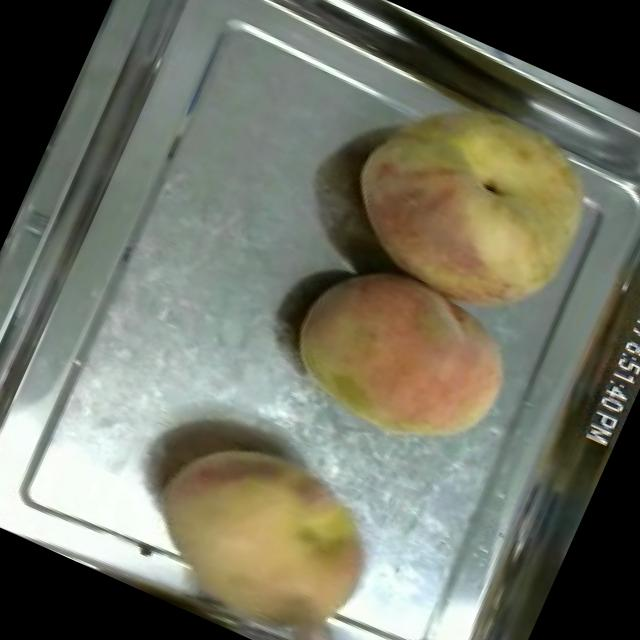Fruit: (314, 52, 632, 352), (113, 404, 412, 640), (264, 234, 542, 484)
